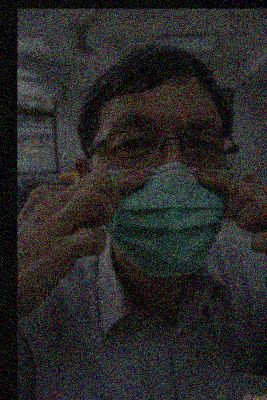with_mask: (86, 108, 231, 275)
